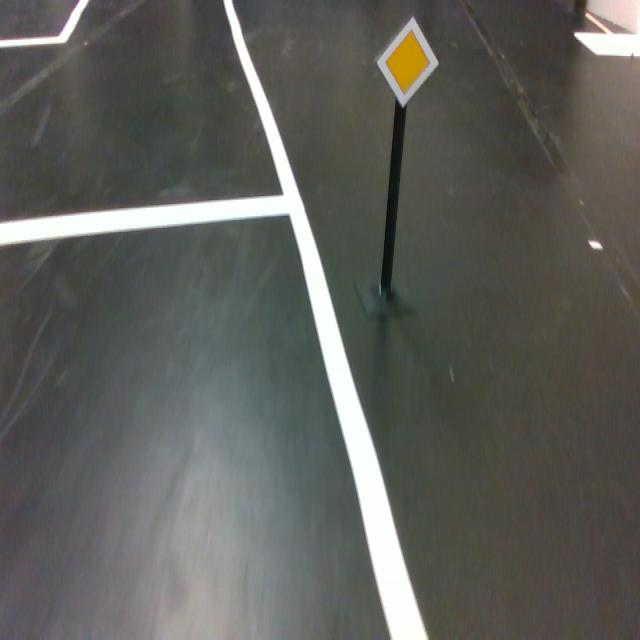priority-sign: (375, 14, 440, 109)
